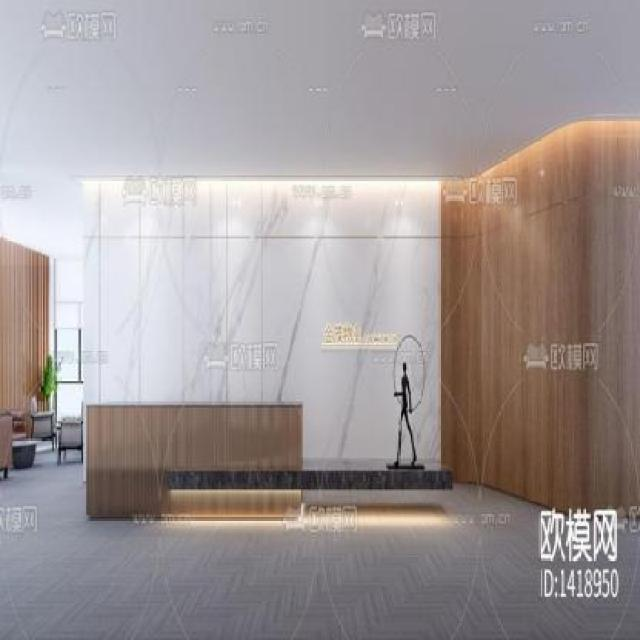frontdesk: (83, 397, 307, 529)
